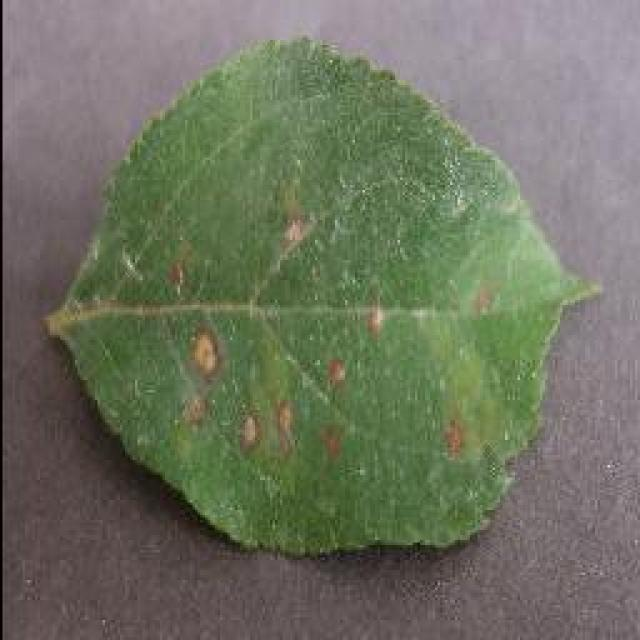apple scab disease: (40, 32, 602, 560)
